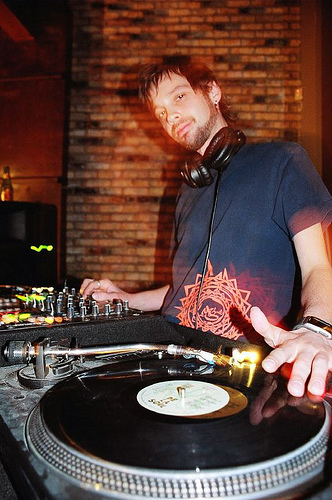without_mask: (140, 68, 227, 152)
